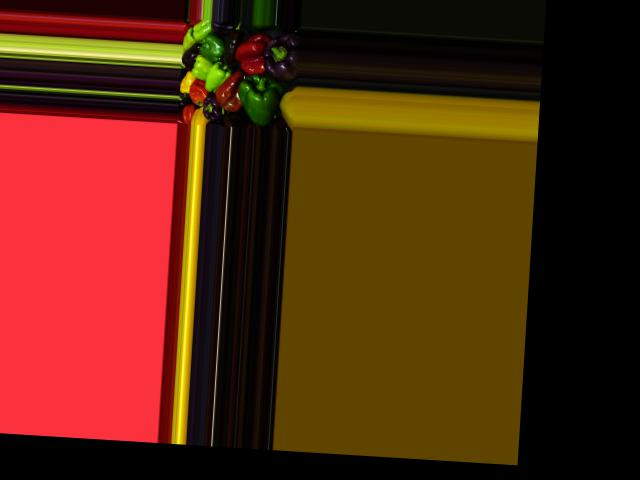bell_pepper: (197, 94, 224, 123)
